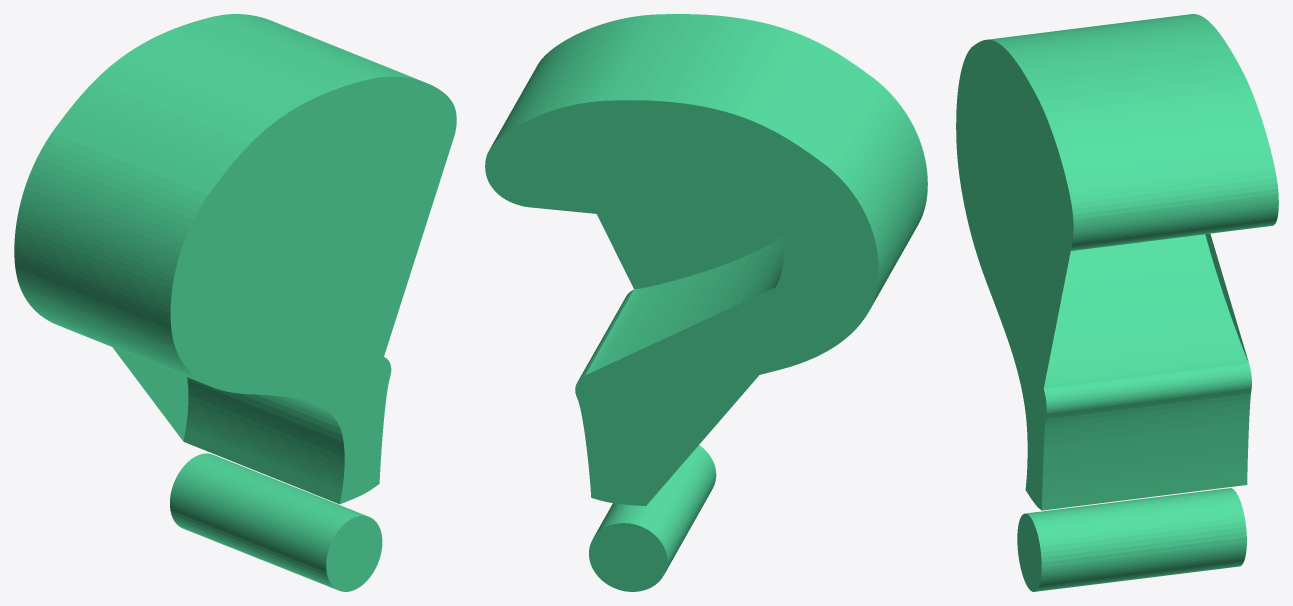
Rendered from 9_questionGreen.fbx.
3 views of the same model, side by side, from view 1: azimuth 30°, elevation 25°; view 2: azimuth 150°, elevation 25°; view 3: azimuth 270°, elevation 25° (orthographic). The views are drawn at different scales.
Parts seen in each view (by area): view 1: Curve.007; view 2: Curve.007; view 3: Curve.007.
Boxes of the visible parts, bbox=[...] form: Curve.007: bbox=[14, 14, 456, 591]; Curve.007: bbox=[485, 14, 927, 591]; Curve.007: bbox=[956, 14, 1278, 591].
Size of the model in its own units: 95.54 by 117 by 67.45.
